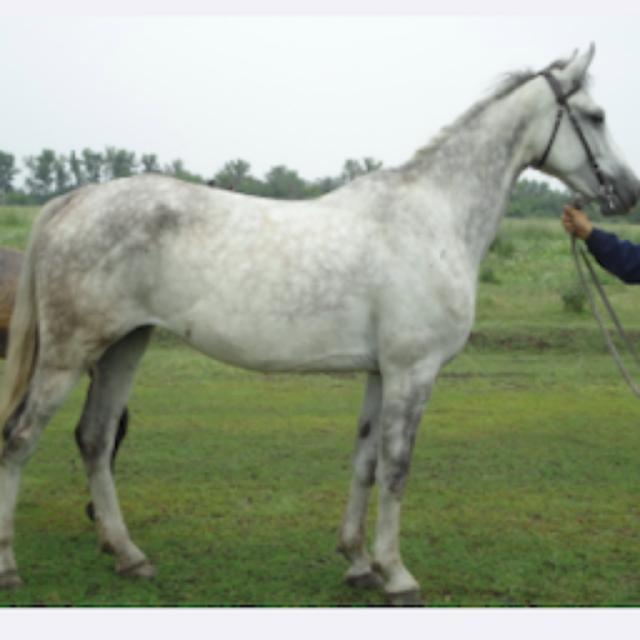Horse: (0, 38, 638, 600)
